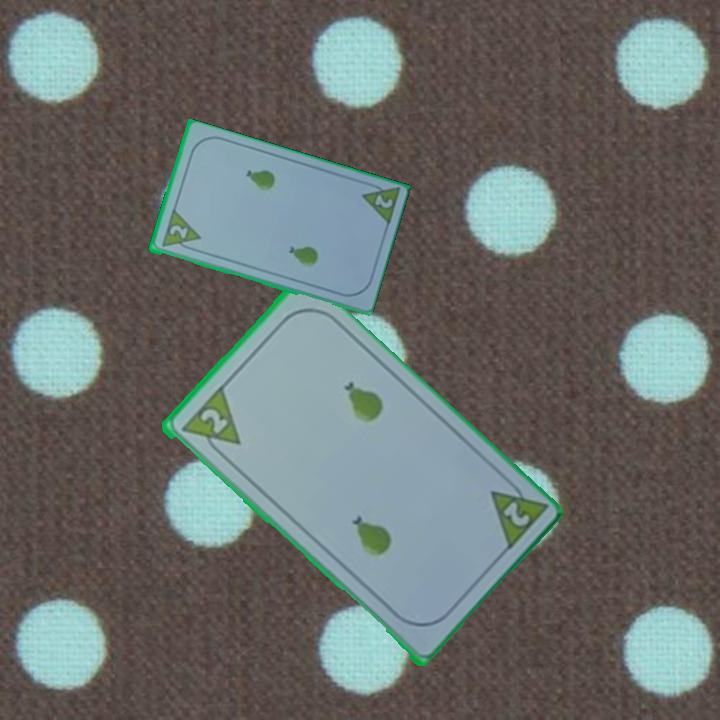2p: (485, 472, 549, 555), (357, 178, 401, 230), (158, 208, 203, 255), (196, 404, 230, 438)
